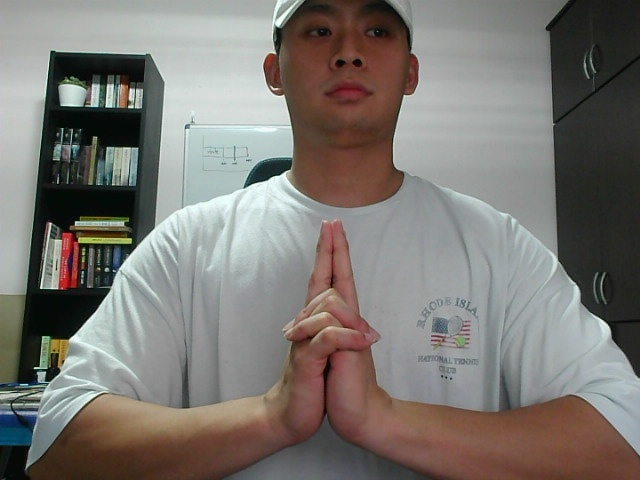Tiger: (270, 214, 402, 456)
